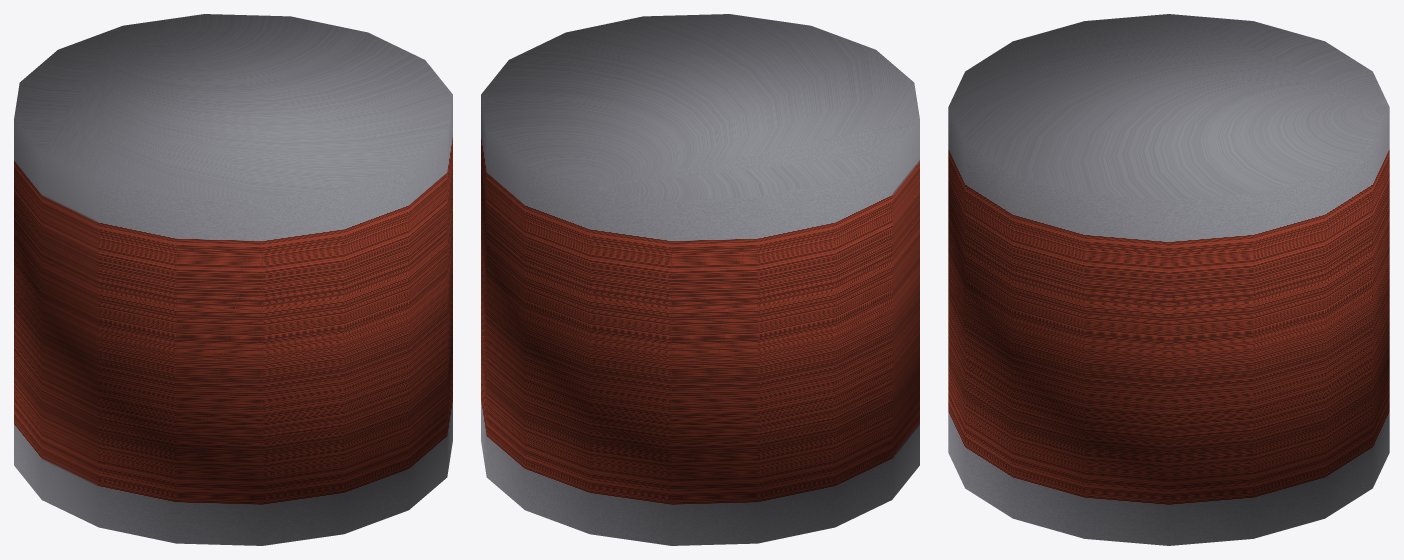
The model's file is tambor.obj.
3 views of the same model, side by side, from view 1: azimuth 30°, elevation 25°; view 2: azimuth 150°, elevation 25°; view 3: azimuth 270°, elevation 25° (orthographic).
Parts seen in each view (by area): view 1: tambor; view 2: tambor; view 3: tambor.
Boxes of the visible parts, x1,y1,x2,y2 form: tambor: (14, 14, 452, 545); tambor: (481, 14, 919, 545); tambor: (948, 14, 1389, 545).
Bounding box in the file's own units: 0.44 × 0.38 × 0.44.
1 material, 1 textured.
